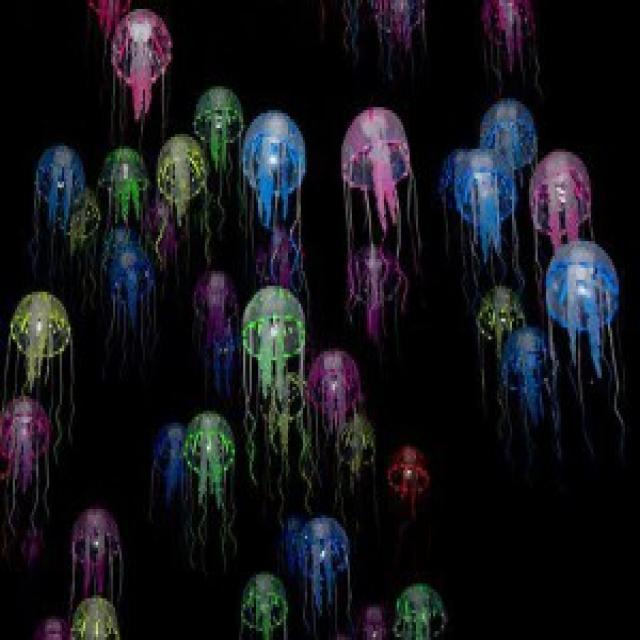Jellyfish: (335, 96, 421, 228), (0, 392, 59, 536), (552, 225, 622, 340), (235, 283, 311, 380), (108, 9, 176, 115), (245, 107, 311, 216), (452, 144, 518, 252), (532, 149, 597, 253), (64, 501, 138, 577), (185, 411, 246, 498), (10, 290, 74, 371), (148, 127, 212, 207), (237, 568, 306, 640), (33, 149, 88, 234), (380, 442, 440, 516), (321, 347, 374, 429), (503, 314, 545, 416), (188, 82, 244, 153), (394, 576, 455, 640), (70, 583, 121, 640), (471, 281, 518, 328)
